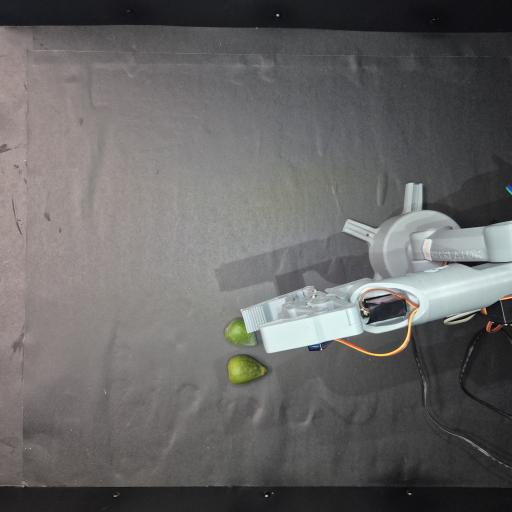higo: (228, 355, 267, 384), (224, 318, 257, 346)
